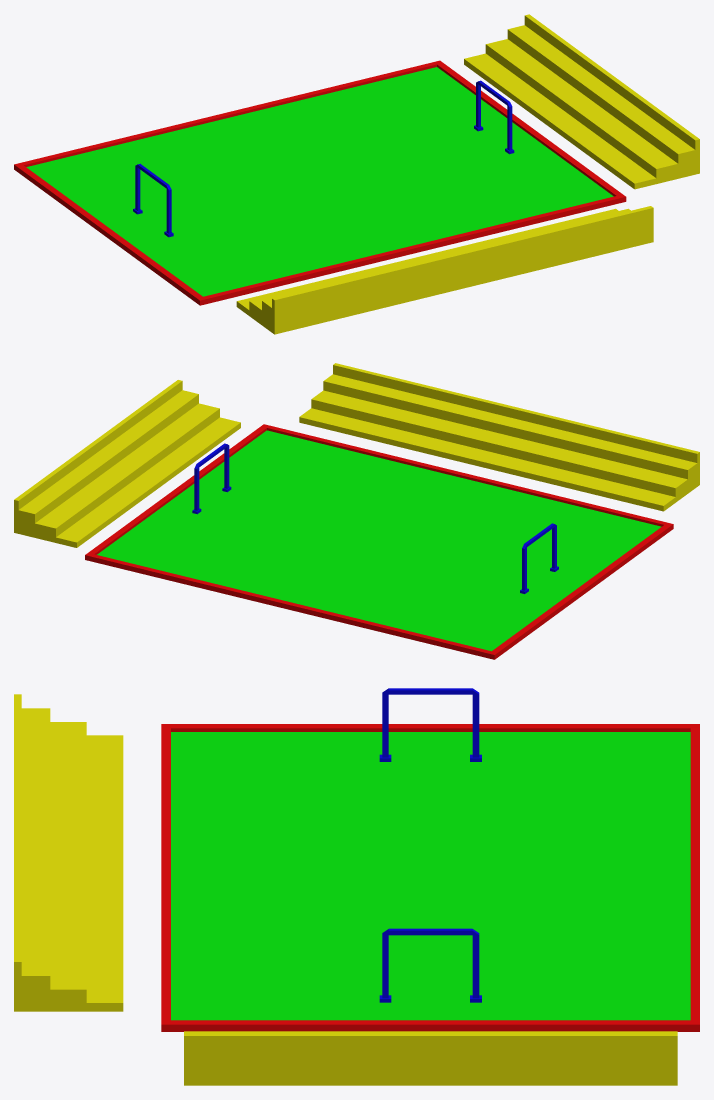
Rendered from Football_Field.fbx.
3 renders of one model, top to bottom at view 1: azimuth 30°, elevation 25°; view 2: azimuth 150°, elevation 25°; view 3: azimuth 270°, elevation 25°, orthographic. The views are drawn at different scales.
Visible parts, largest first — view 1: mesh_footballField; view 2: mesh_footballField; view 3: mesh_footballField.
Part boxes in pixels (left/top/right/bottom): mesh_footballField: left=14, top=14, right=699, bottom=334; mesh_footballField: left=14, top=363, right=699, bottom=659; mesh_footballField: left=14, top=688, right=699, bottom=1085.
Bounding box in the file's own units: 1184 × 115 × 958.
